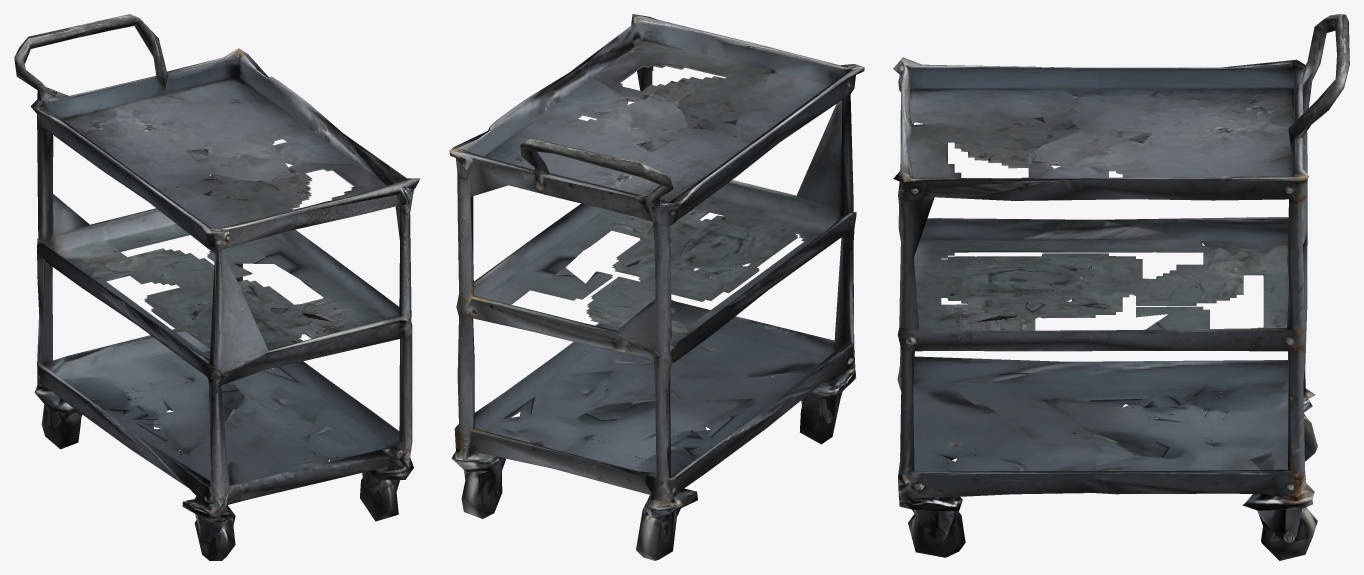
Rendered from utility_cart_LOD1.fbx.
3 renders of one model, left to right at view 1: azimuth 30°, elevation 25°; view 2: azimuth 150°, elevation 25°; view 3: azimuth 270°, elevation 25°, orthographic. The views are drawn at different scales.
Parts seen in each view (by area): view 1: utility_cart.001; view 2: utility_cart.001; view 3: utility_cart.001.
Boxes of the visible parts, x1,y1,x2,y2 form: utility_cart.001: (14,14,420,560); utility_cart.001: (449,14,864,560); utility_cart.001: (893,14,1349,560).
Size of the model in its own units: 0.6373 by 1.08 by 1.
1 material, 1 textured.
